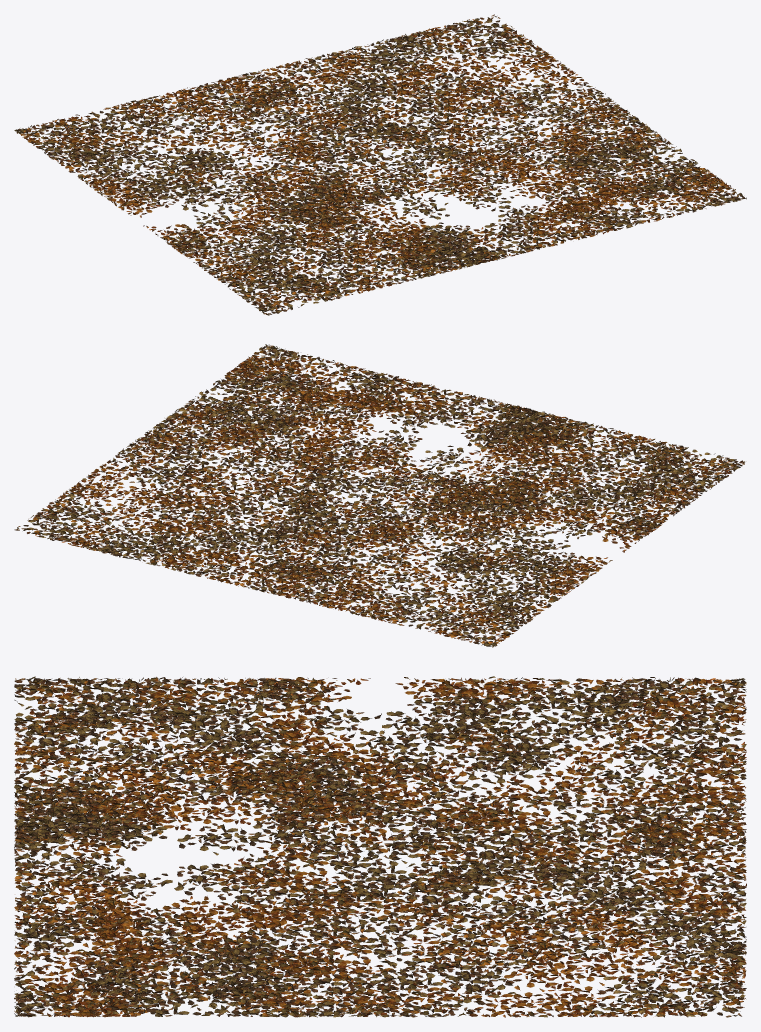
The model's file is deadleafs.glb.
3 views of the same model, one above another, from view 1: azimuth 30°, elevation 25°; view 2: azimuth 150°, elevation 25°; view 3: azimuth 270°, elevation 25° (orthographic). The views are drawn at different scales.
Parts seen in each view (by area): view 1: Misc_Dead-leaves_A_spring-summer.005; view 2: Misc_Dead-leaves_A_spring-summer.005; view 3: Misc_Dead-leaves_A_spring-summer.005.
Part boxes in pixels (box(x1,y1,x2,y2)): Misc_Dead-leaves_A_spring-summer.005: box(14, 14, 746, 315); Misc_Dead-leaves_A_spring-summer.005: box(14, 344, 744, 647); Misc_Dead-leaves_A_spring-summer.005: box(14, 676, 746, 1017).
Size of the model in its own units: 9.8 by 0.0588 by 8.95.
Materials: 2 (2 with a texture image).
